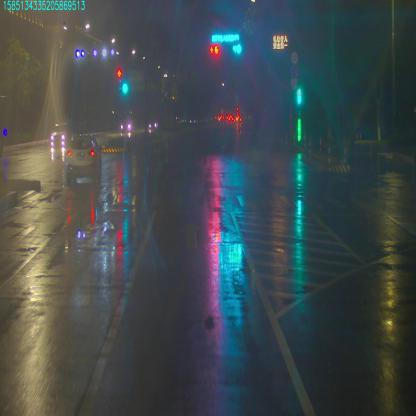traffic-light: (210, 35, 240, 45), (231, 44, 243, 57), (210, 43, 219, 56)
